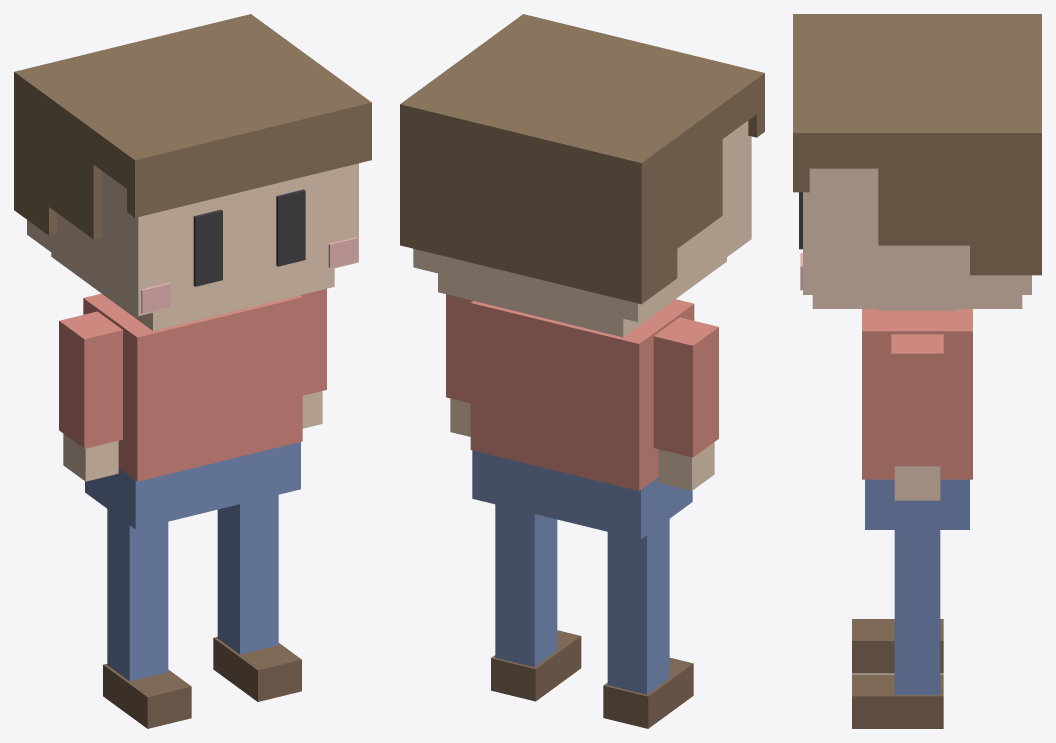
File: person.glb
The picture shows the model from 3 angles, left to right: view 1: azimuth 30°, elevation 25°; view 2: azimuth 150°, elevation 25°; view 3: azimuth 270°, elevation 25°; orthographic projection. The views are drawn at different scales.
Visible parts, largest first — view 1: person; view 2: person; view 3: person.
Part boxes in pixels (x1,y1,x2,y2): person: (14, 14, 371, 728); person: (400, 14, 764, 728); person: (793, 14, 1041, 728).
Bounding box in the file's own units: 0.5984 × 1.41 × 0.5168.
